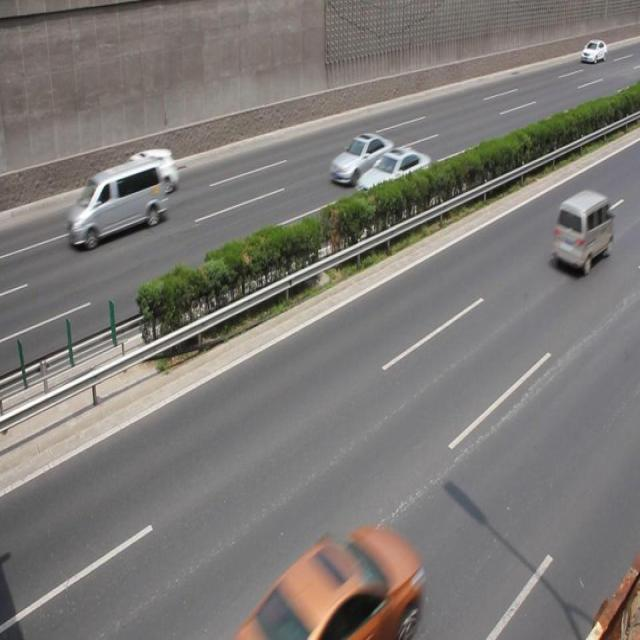car: (248, 520, 420, 633), (356, 147, 431, 210), (328, 133, 393, 188), (117, 145, 178, 202)
truck: (66, 154, 168, 250), (552, 189, 611, 276)
